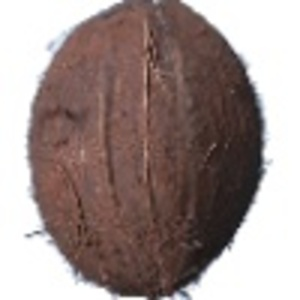coco: (29, 1, 270, 300)
